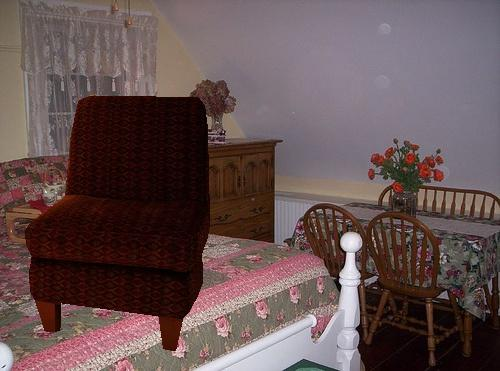tampered: (26, 96, 210, 351)
